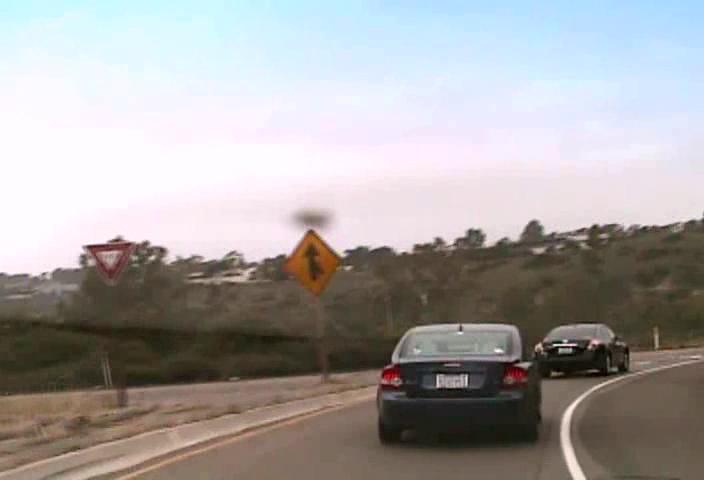yield: (81, 240, 134, 284)
